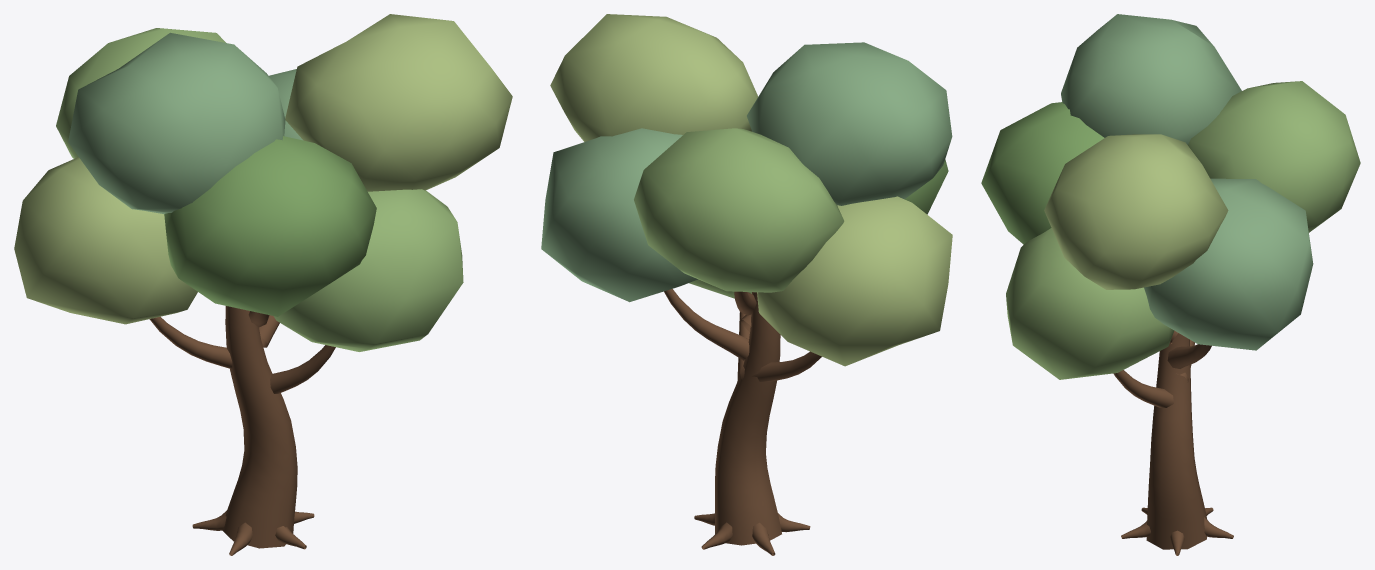
Rendered from tree-1.glb.
3 renders of one model, left to right at view 1: azimuth 30°, elevation 25°; view 2: azimuth 150°, elevation 25°; view 3: azimuth 270°, elevation 25°, orthographic. The views are drawn at different scales.
Visible parts, largest first — view 1: tree-1-artist-mesh; view 2: tree-1-artist-mesh; view 3: tree-1-artist-mesh.
Part boxes in pixels (x1=…): tree-1-artist-mesh: x1=14, y1=14, x2=512, y2=555; tree-1-artist-mesh: x1=541, y1=14, x2=952, y2=555; tree-1-artist-mesh: x1=981, y1=14, x2=1360, y2=555.
Bounding box in the file's own units: 3.47 × 3.98 × 2.91.
